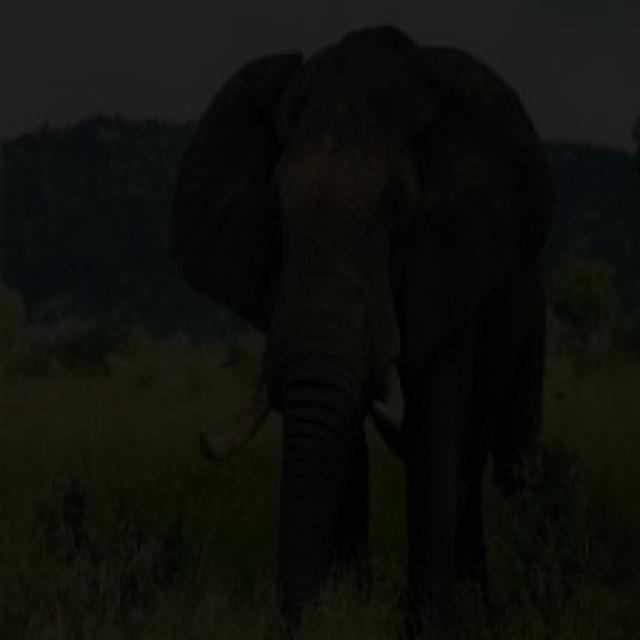animal: (104, 59, 597, 588)
